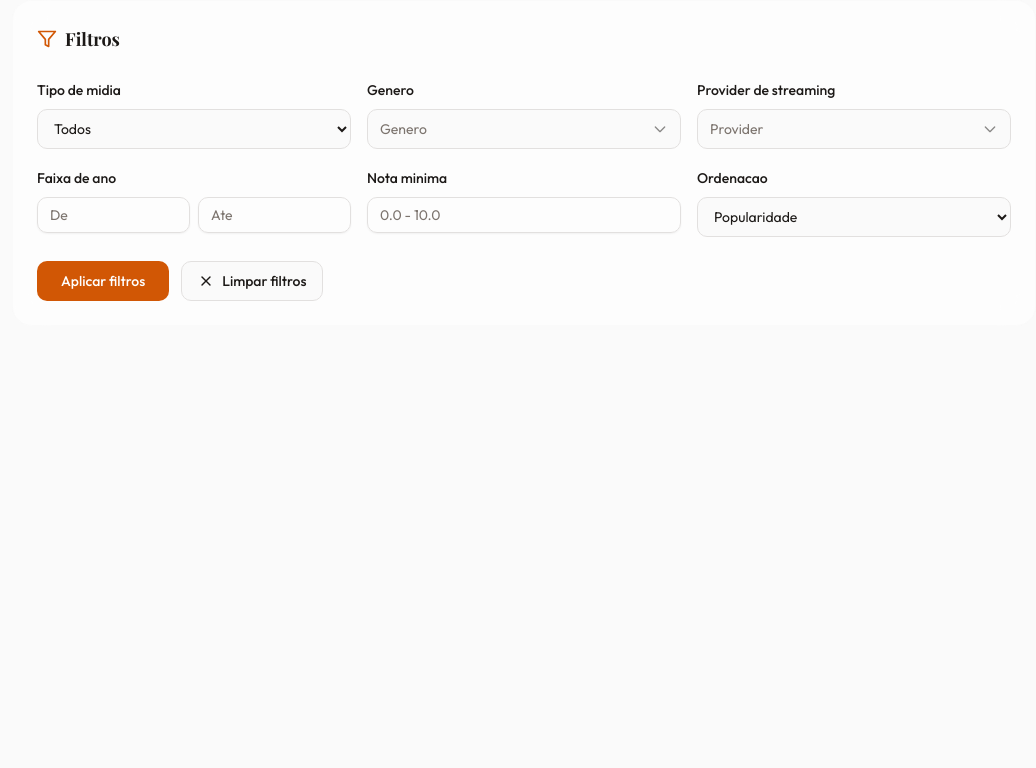
Test: SearchFilters › shows results after successful search
The width and height of the screenshot is (1036, 768).
Click the button "Aplicar filtros" at [103, 281], box [37,261,169,301]
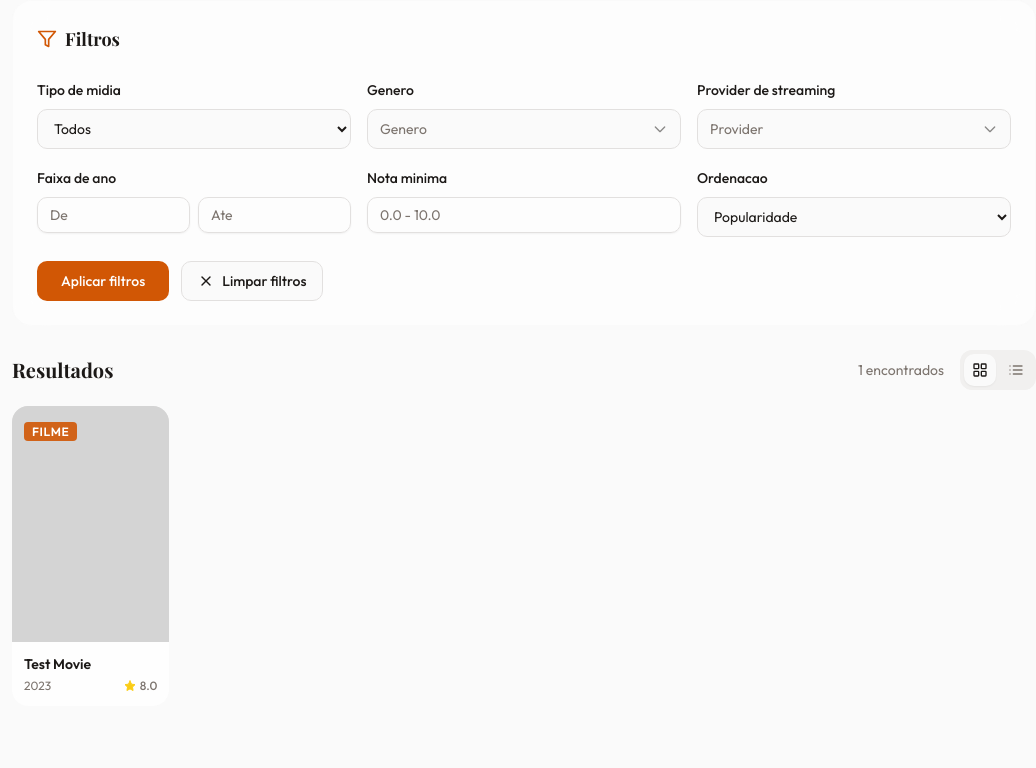
Expected: the heading "Test Movie" is shown, [24,655,91,673]
